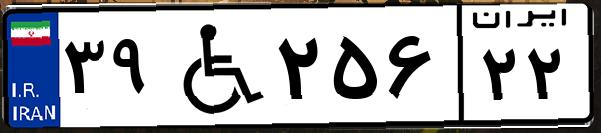2: (270, 28, 330, 110), (475, 38, 525, 113), (525, 38, 570, 115)
3: (57, 26, 110, 100)
5: (330, 28, 385, 110)
6: (385, 28, 445, 110)
9: (110, 28, 158, 98)
ژ (معلولین و جانبازان): (158, 12, 270, 120)
